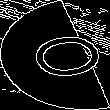O_E: (8, 27, 102, 83)
